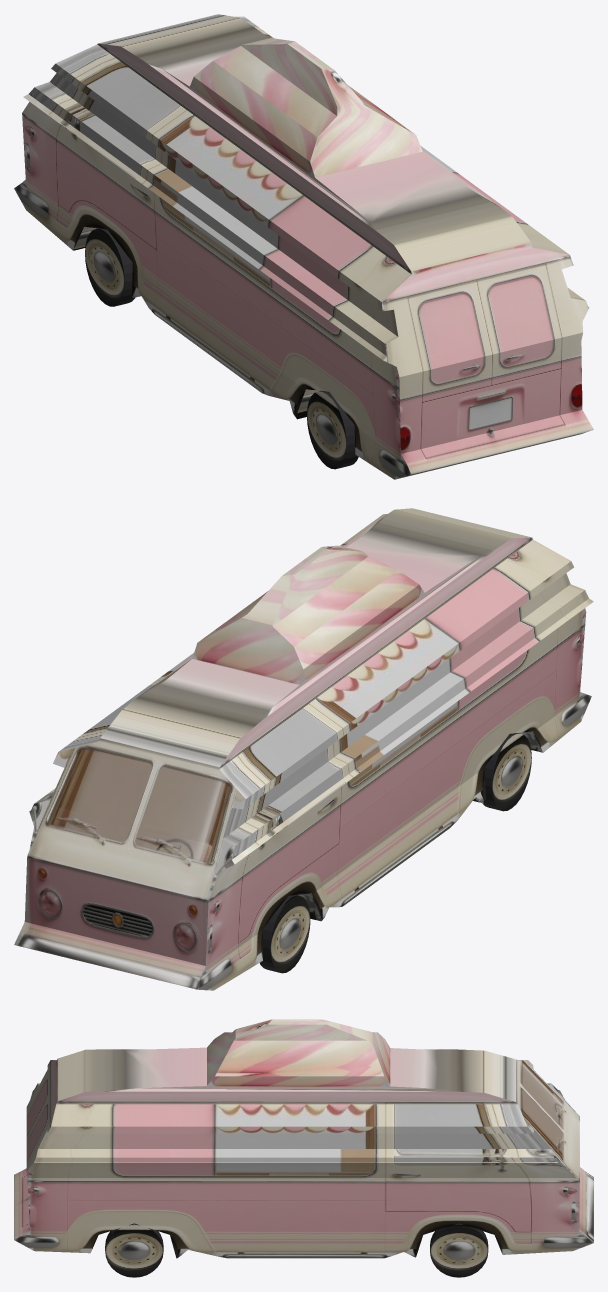
File: ice_cream_truck.glb
3 renders of one model, top to bottom at view 1: azimuth 30°, elevation 25°; view 2: azimuth 150°, elevation 25°; view 3: azimuth 270°, elevation 25°, orthographic. The views are drawn at different scales.
Visible parts, largest first — view 1: ice_cream_truck, wheel_BL, wheel_FL; view 2: ice_cream_truck, wheel_FL, wheel_BL; view 3: ice_cream_truck, wheel_BR, wheel_FR.
Boxes of the visible parts, x1=… form: ice_cream_truck: x1=14, y1=14, x2=593, y2=479; wheel_BL: x1=307, y1=390, x2=358, y2=469; wheel_FL: x1=85, y1=228, x2=134, y2=306; ice_cream_truck: x1=14, y1=508, x2=593, y2=990; wheel_FL: x1=260, y1=895, x2=310, y2=973; wheel_BL: x1=482, y1=733, x2=531, y2=811; ice_cream_truck: x1=14, y1=1019, x2=593, y2=1258; wheel_BR: x1=105, y1=1223, x2=163, y2=1277; wheel_FR: x1=430, y1=1223, x2=488, y2=1277.
Bounding box in the file's own units: 1.81 × 2.56 × 5.99.
Materials: 3 (1 with a texture image).
